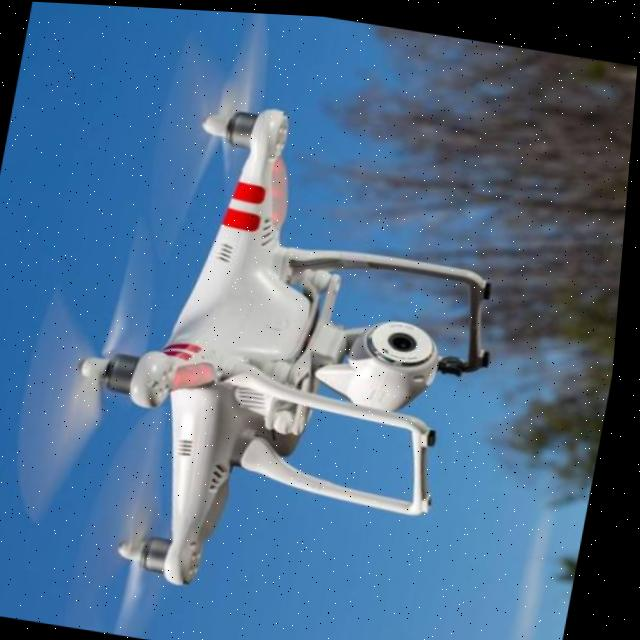drones: (0, 10, 562, 640)
